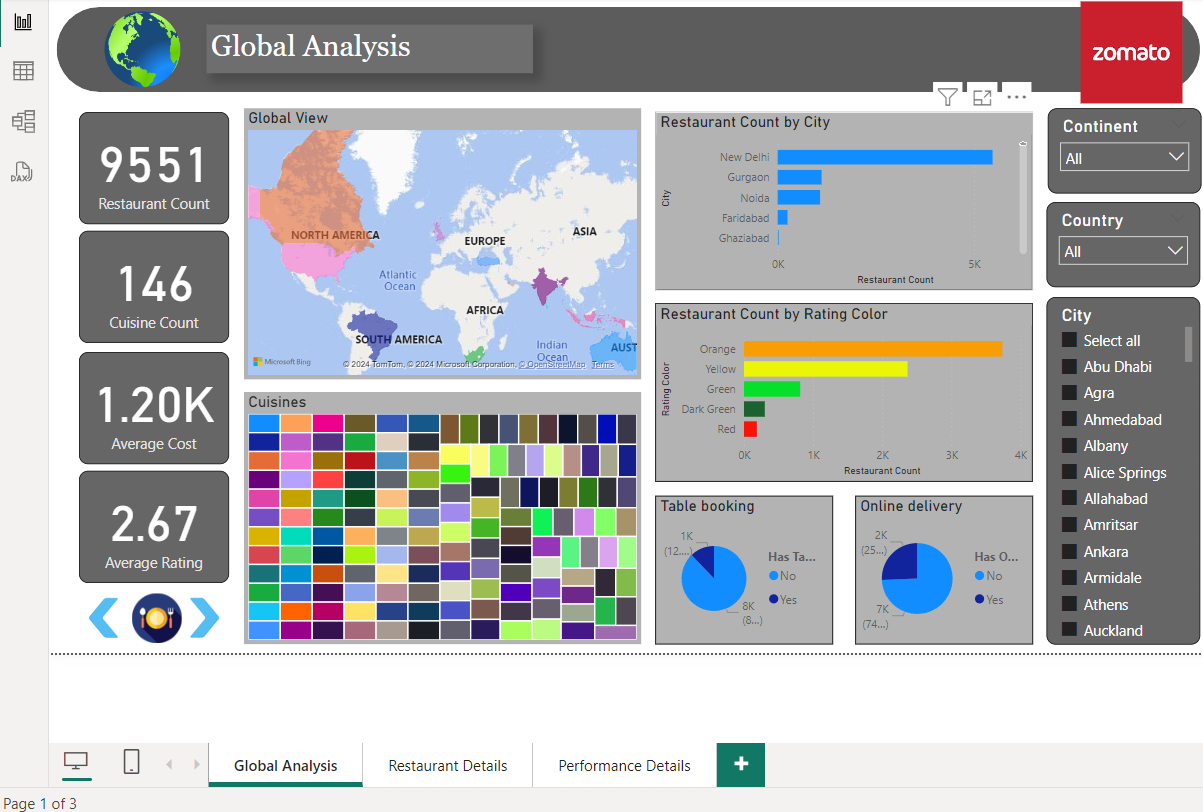

Layout of this report page (visuals, bound fields, positions):
{"tool":"powerbi","page":{"name":"Global Analysis","canvas":[1280,720],"ordinal":0},"visuals":[{"type":"card","fields":{"Values":["Zomato Regions.Restaurant Count"]},"box":[32.9,126.2,164.7,123.5],"z":0},{"type":"card","fields":{"Values":["Cuisines.Cuisine Count"]},"box":[32.9,256.6,164.7,123.5],"z":1000},{"type":"card","fields":{"Values":["Fact Table.Average Cost"]},"box":[32.9,389.7,164.7,123.5],"z":2000},{"type":"card","fields":{"Values":["Fact Table.Average Rating"]},"box":[32.9,520.1,164.7,123.5],"z":3000},{"type":"filledMap","title":"Global View","fields":{"Category":["Country-Code.Country"],"Series":["Country-Code.Country"]},"box":[214.1,122.1,436.4,297.8],"z":4000},{"type":"treemap","title":"Cuisines","fields":{"Values":["Zomato Regions.Restaurant Count"],"Group":["Cuisines.Cuisines"]},"box":[214.1,433.6,436.4,277.2],"z":5000},{"type":"slicer","fields":{"Values":["Country-Code.Continent"]},"box":[1096.4,122.1,168.8,93.3],"z":6000},{"type":"slicer","fields":{"Values":["Country-Code.Country"]},"box":[1095,225,168.8,93.3],"z":7000},{"type":"slicer","fields":{"Values":["Zomato Regions.City"]},"box":[1095,329.3,168.8,381.5],"z":8000},{"type":"shape","box":[8.2,11,1255.6,93.3],"z":9000},{"type":"textbox","box":[172.9,30.2,358.1,53.5],"z":10000},{"type":"image","box":[32.9,11,140,93.3],"z":11000},{"type":"image","box":[1096.4,0,183.9,122.1],"z":12000},{"type":"clusteredBarChart","fields":{"Y":["Zomato Regions.Restaurant Count"],"Category":["Zomato Regions.City"]},"box":[665.5,126.2,414.4,196.2],"z":13000},{"type":"clusteredBarChart","fields":{"Y":["Zomato Regions.Restaurant Count"],"Category":["Fact Table.Rating Color"]},"box":[665.5,336.2,414.4,196.2],"z":14000},{"type":"pieChart","title":"Table booking","fields":{"Y":["Zomato Regions.Restaurant Count"],"Category":["Fact Table.Has Table booking"]},"box":[665.5,547.5,194.9,163.3],"z":15000},{"type":"pieChart","title":"Online delivery","fields":{"Y":["Zomato Regions.Restaurant Count"],"Category":["Fact Table.Has Online delivery"]},"box":[885.1,547.5,194.9,163.3],"z":16000},{"type":"image","box":[144.1,649.1,53.5,64.5],"z":17000},{"type":"image","box":[32.9,653.2,53.5,56.3],"z":18000},{"type":"image","box":[86.4,643.6,64.5,76.8],"z":19000}]}

Visuals, with their boxes in screenshot pixels (x1, y1, x2, y2):
card - Zomato Regions.Restaurant Count: BBox(74, 111, 227, 225)
card - Cuisines.Cuisine Count: BBox(74, 232, 227, 346)
card - Fact Table.Average Cost: BBox(74, 355, 227, 469)
card - Fact Table.Average Rating: BBox(74, 476, 227, 590)
"Global View" filledMap: BBox(242, 107, 647, 383)
"Cuisines" treemap: BBox(242, 396, 647, 653)
slicer - Country-Code.Continent: BBox(1060, 107, 1202, 193)
slicer - Country-Code.Country: BBox(1059, 202, 1202, 289)
slicer - Zomato Regions.City: BBox(1059, 299, 1202, 653)
shape: BBox(51, 4, 1202, 90)
textbox: BBox(204, 22, 536, 71)
image: BBox(74, 4, 204, 90)
image: BBox(1060, 0, 1202, 107)
clusteredBarChart - Zomato Regions.Restaurant Count x Zomato Regions.City: BBox(661, 111, 1045, 293)
clusteredBarChart - Zomato Regions.Restaurant Count x Fact Table.Rating Color: BBox(661, 305, 1045, 487)
"Table booking" pieChart: BBox(661, 501, 841, 653)
"Online delivery" pieChart: BBox(864, 501, 1045, 653)
image: BBox(177, 595, 227, 655)
image: BBox(74, 599, 124, 651)
image: BBox(124, 590, 184, 661)
